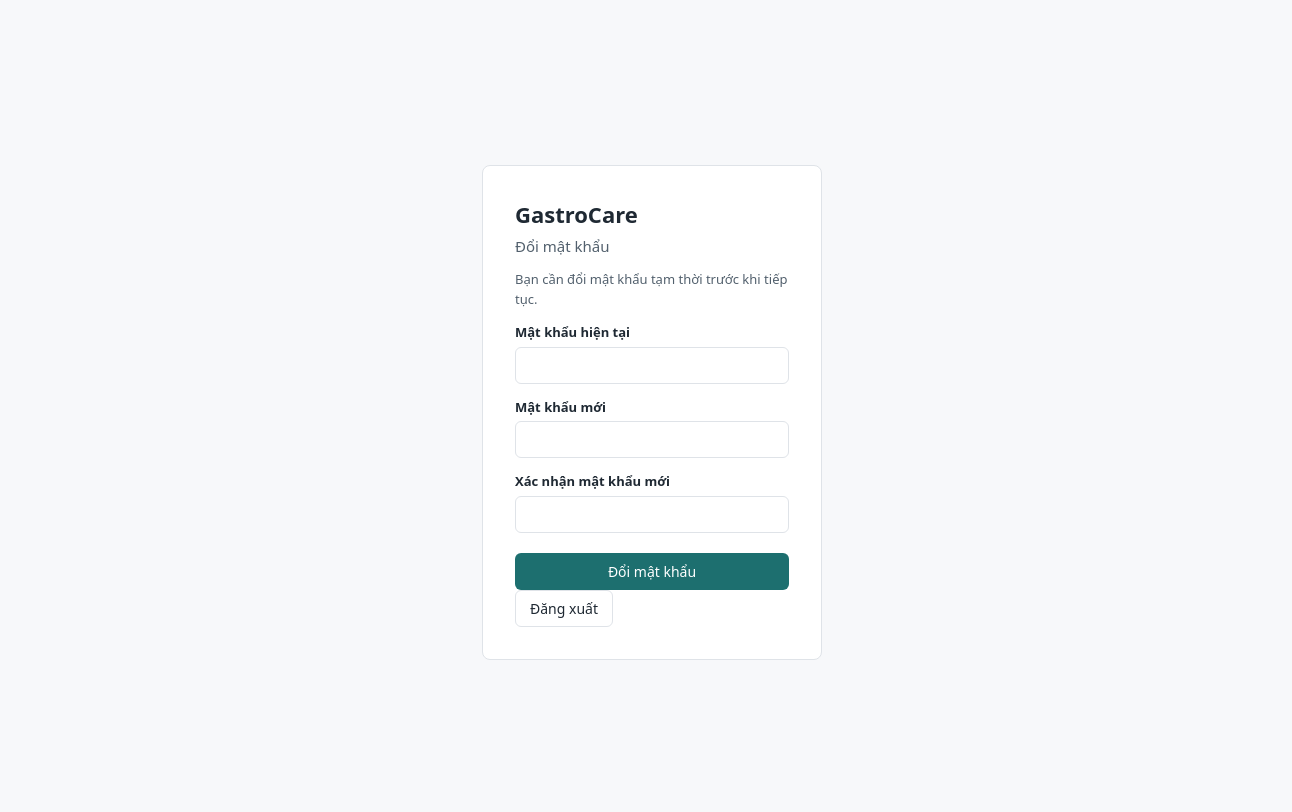
ChangePasswordPage (DEC-018 T2) › changes the password, stores the fresh token, refreshes and navigates home
In the password field labelled "Mật khẩu hiện tại": (652, 365) x1=515 y1=346 x2=789 y2=384, type "temp-pass-1"
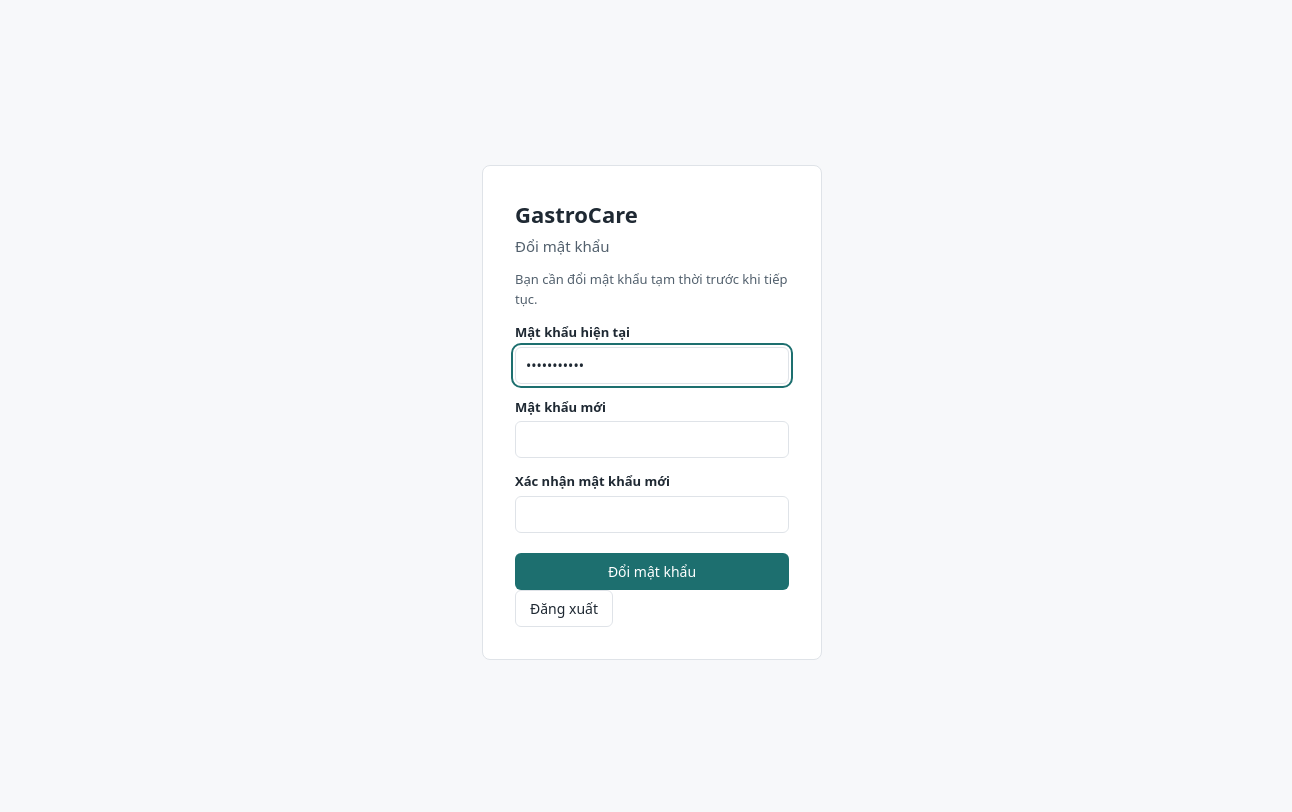
In the password field labelled "Mật khẩu mới": (652, 440) x1=515 y1=421 x2=789 y2=458, type "Brand-New-Pass1"
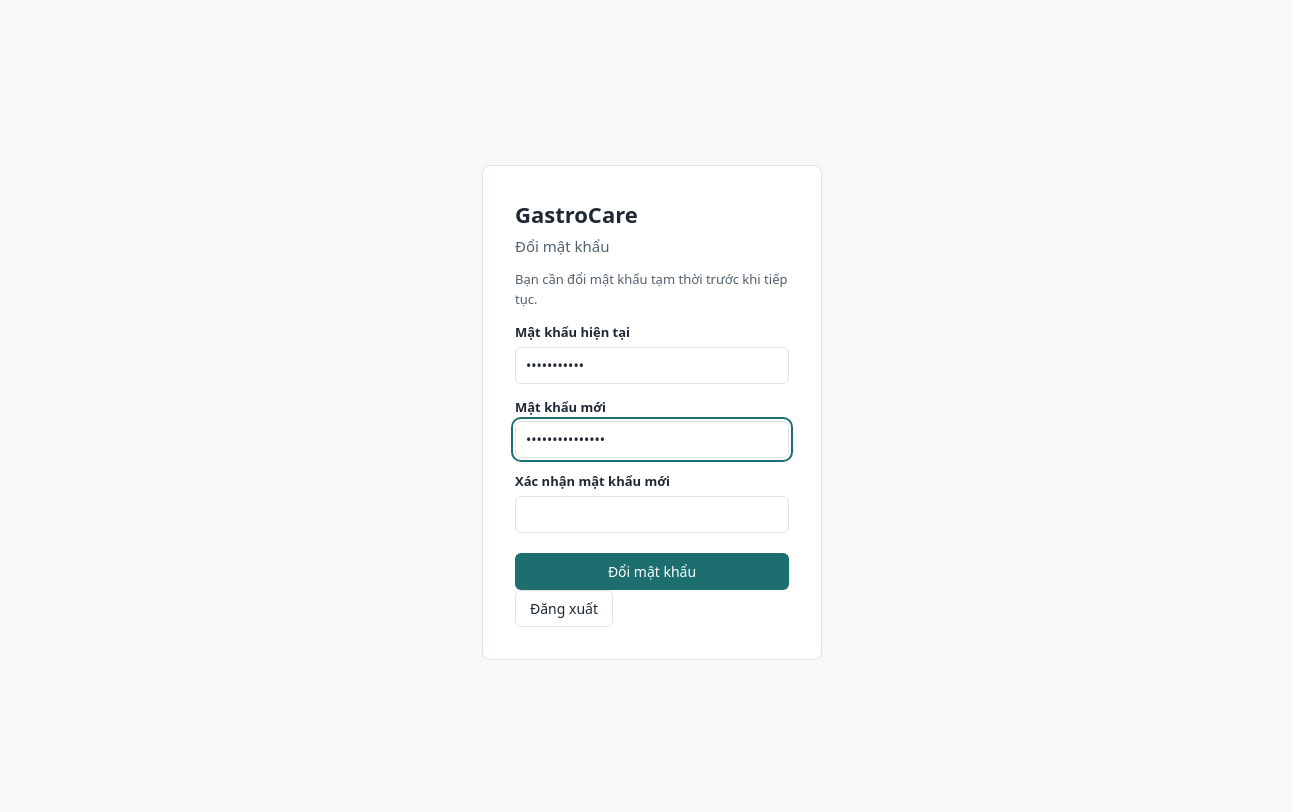
In the password field labelled "Xác nhận mật khẩu mới": (652, 514) x1=515 y1=496 x2=789 y2=532, type "Brand-New-Pass1"
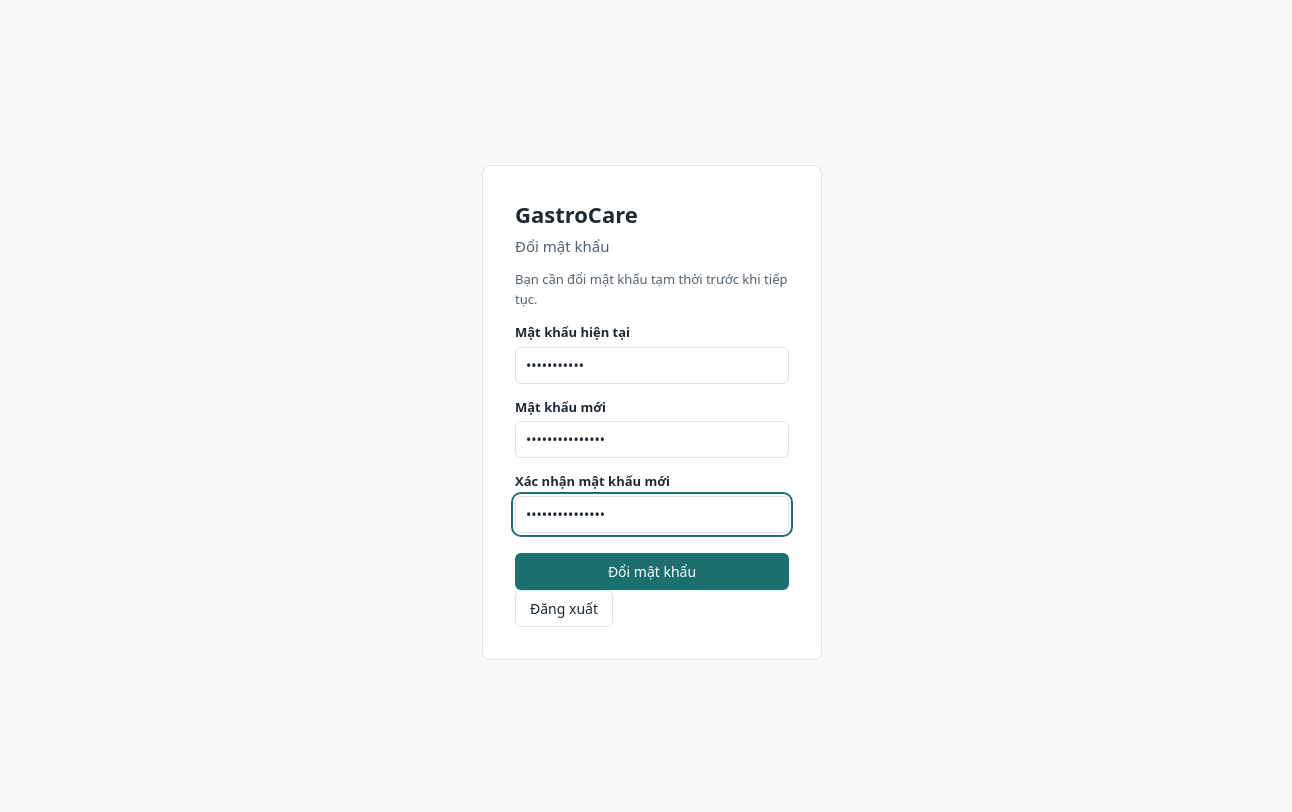
Click the button "Đổi mật khẩu": (652, 571) x1=515 y1=552 x2=789 y2=590
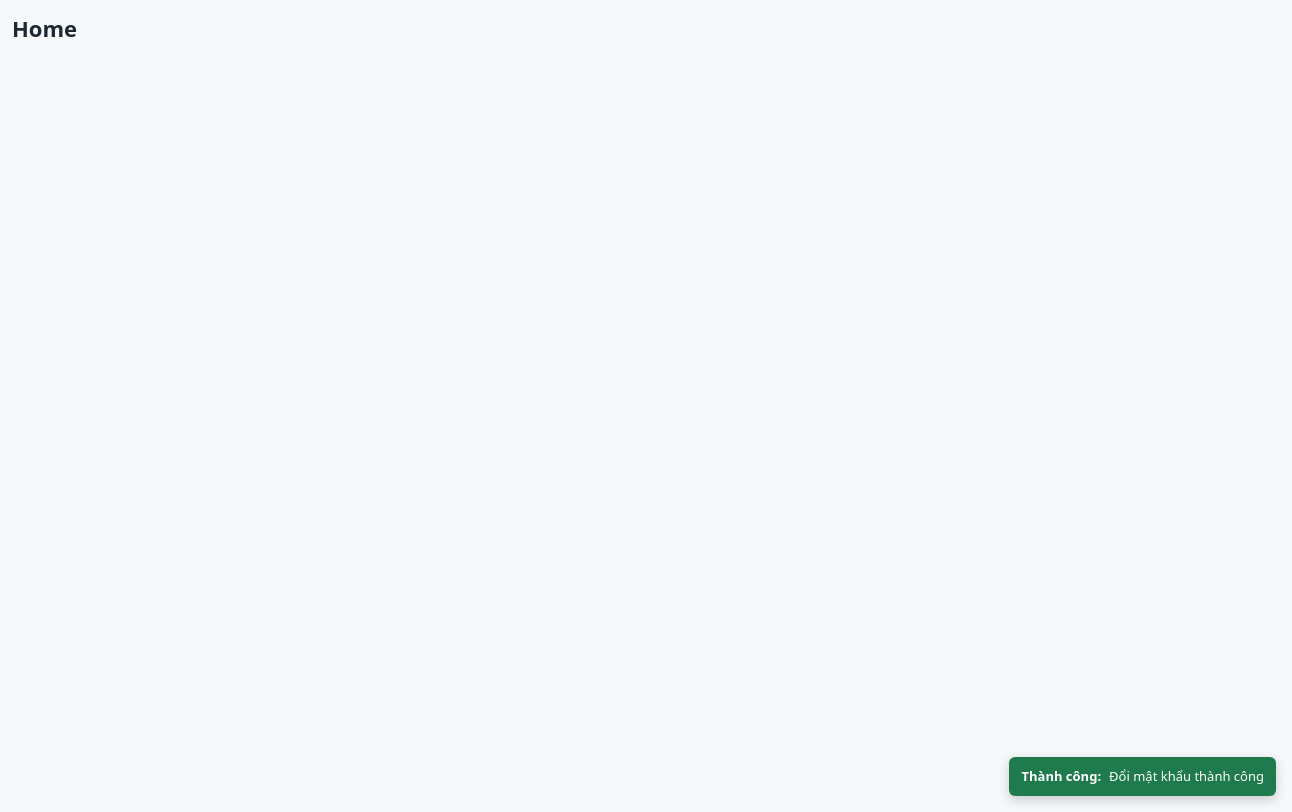
Check: the heading "Home" is shown, box x1=12 y1=13 x2=77 y2=43
Check: the text "Đổi mật khẩu thành công" is shown, box x1=1109 y1=766 x2=1264 y2=786
